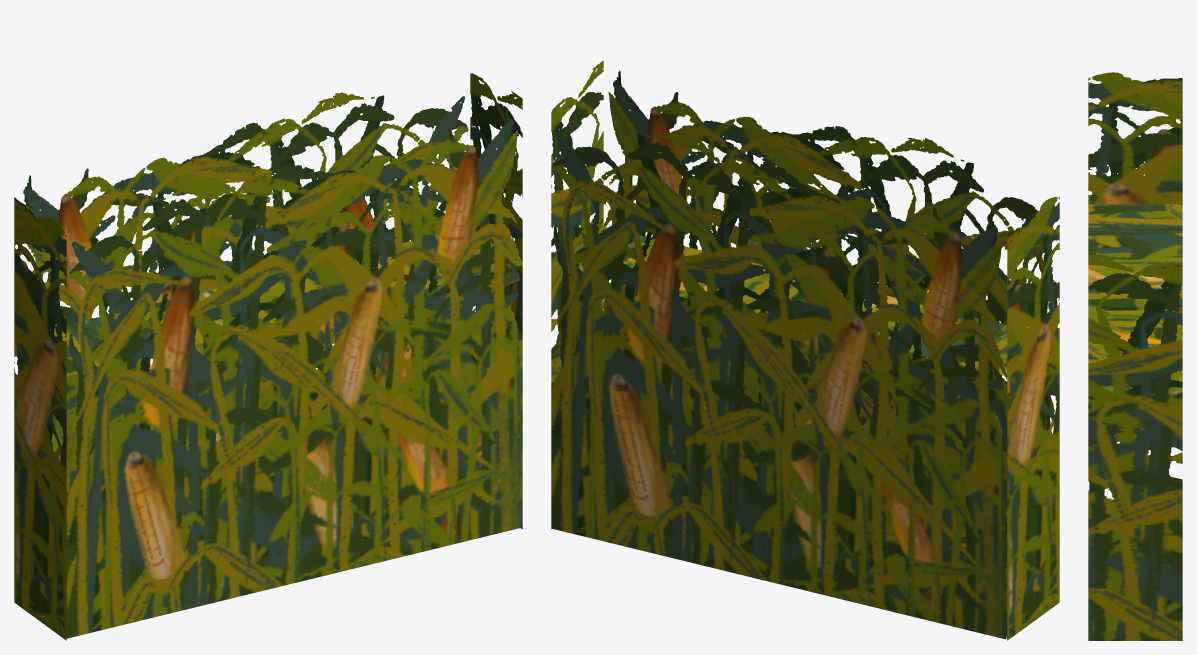
Rendered from cornBox.fbx.
3 renders of one model, left to right at view 1: azimuth 30°, elevation 25°; view 2: azimuth 150°, elevation 25°; view 3: azimuth 270°, elevation 25°, orthographic. The views are drawn at different scales.
Visible parts, largest first — view 1: Cube; view 2: Cube; view 3: Cube.
Boxes of the visible parts, box(x1,y1,x2,y2) form: Cube: box(14, 73, 522, 640); Cube: box(551, 60, 1059, 640); Cube: box(1088, 72, 1182, 640).
Bounding box in the file's own units: 200 × 200 × 40.
